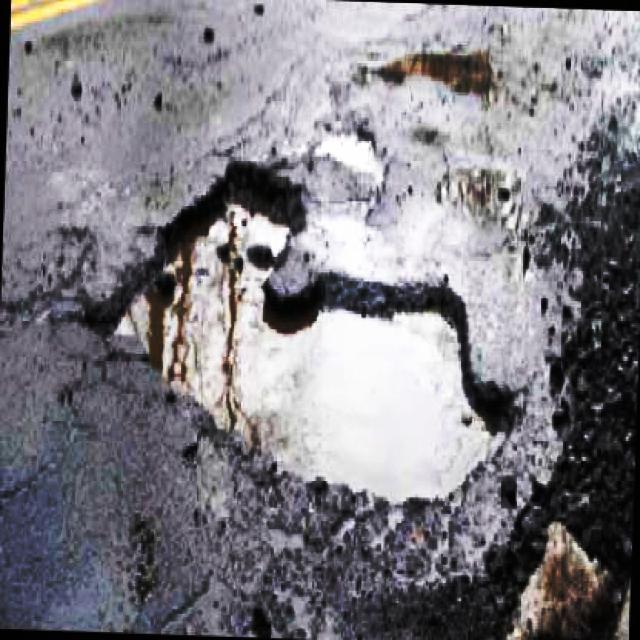pothole: (71, 155, 526, 516), (437, 144, 545, 244), (379, 35, 503, 108), (310, 123, 398, 217)
